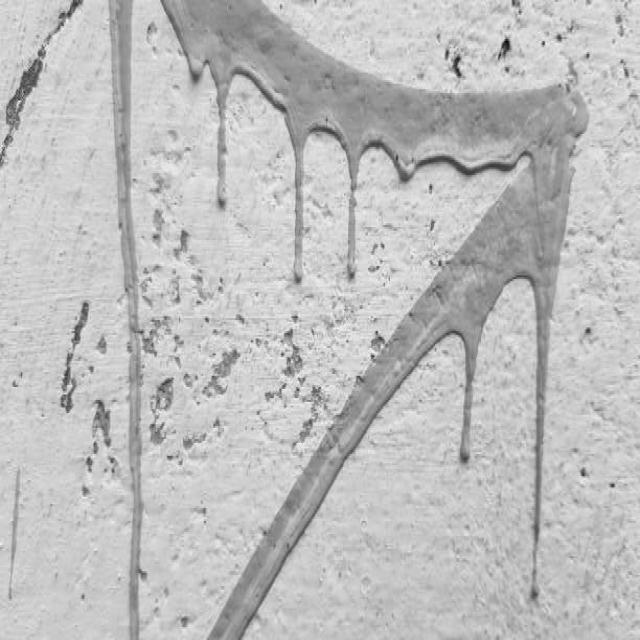paint drips: (176, 32, 383, 291), (451, 255, 562, 598), (388, 120, 530, 218)
